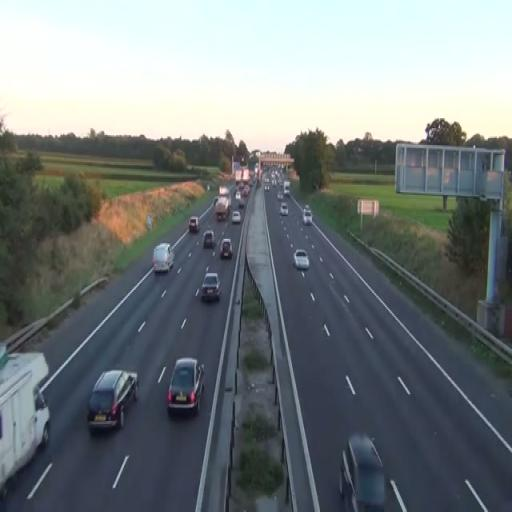Car: (86, 366, 140, 435), (339, 432, 386, 511), (166, 357, 206, 418), (152, 242, 174, 274), (200, 272, 222, 302), (294, 249, 310, 270), (220, 238, 233, 260), (203, 229, 215, 249), (188, 216, 200, 233), (231, 210, 241, 224)
Truck: (0, 344, 52, 496)
